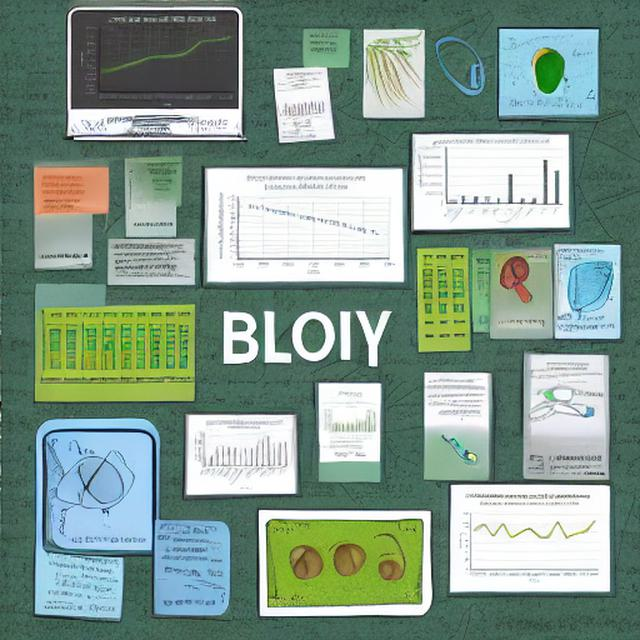Graph: (214, 171, 398, 278), (76, 13, 239, 109), (453, 500, 608, 588), (417, 137, 567, 225), (192, 420, 289, 491), (324, 403, 378, 439)
